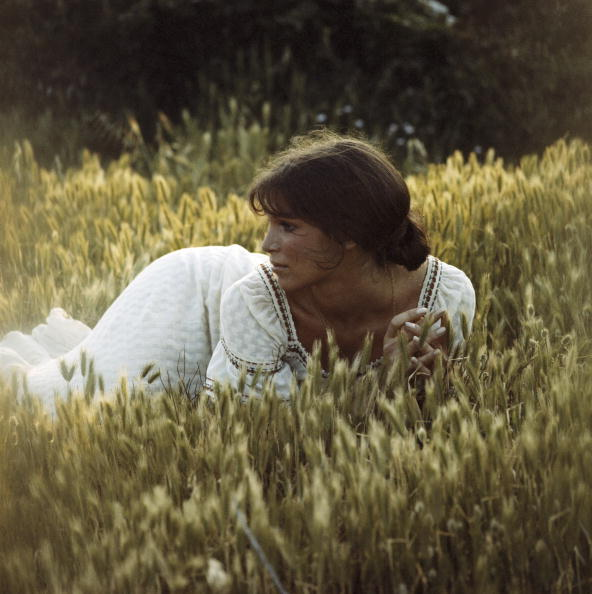deitado: (118, 149, 519, 403)
